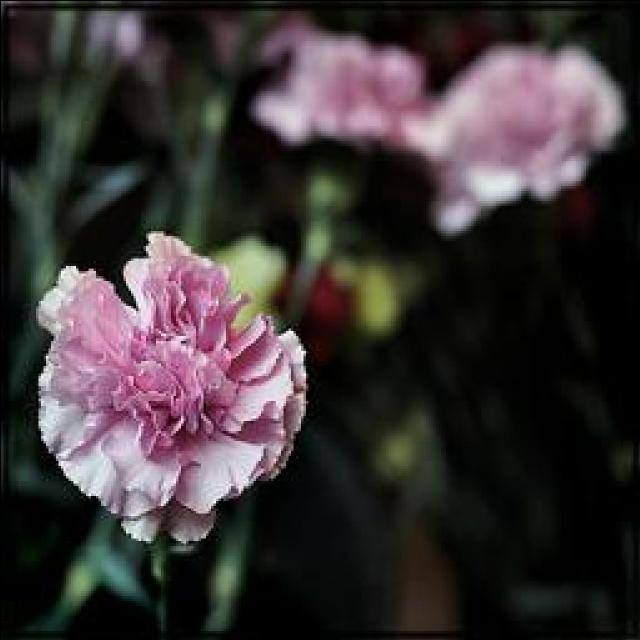carnation: (21, 210, 328, 552)
